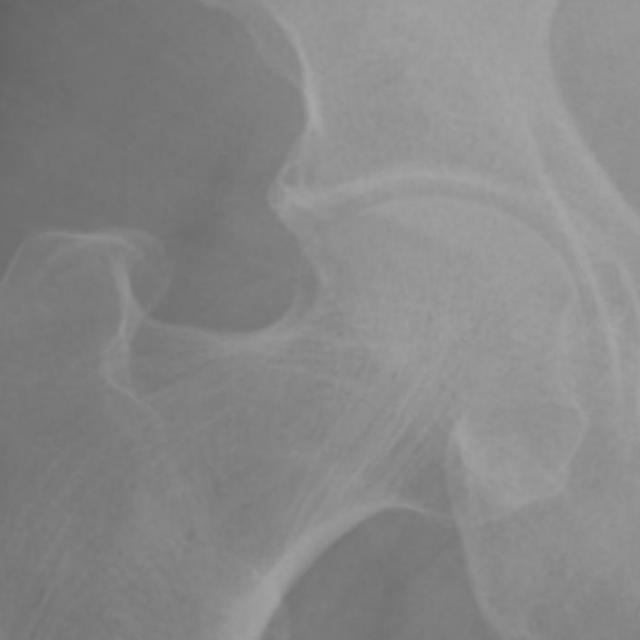Fitted_femural_head: (336, 195, 432, 336)
